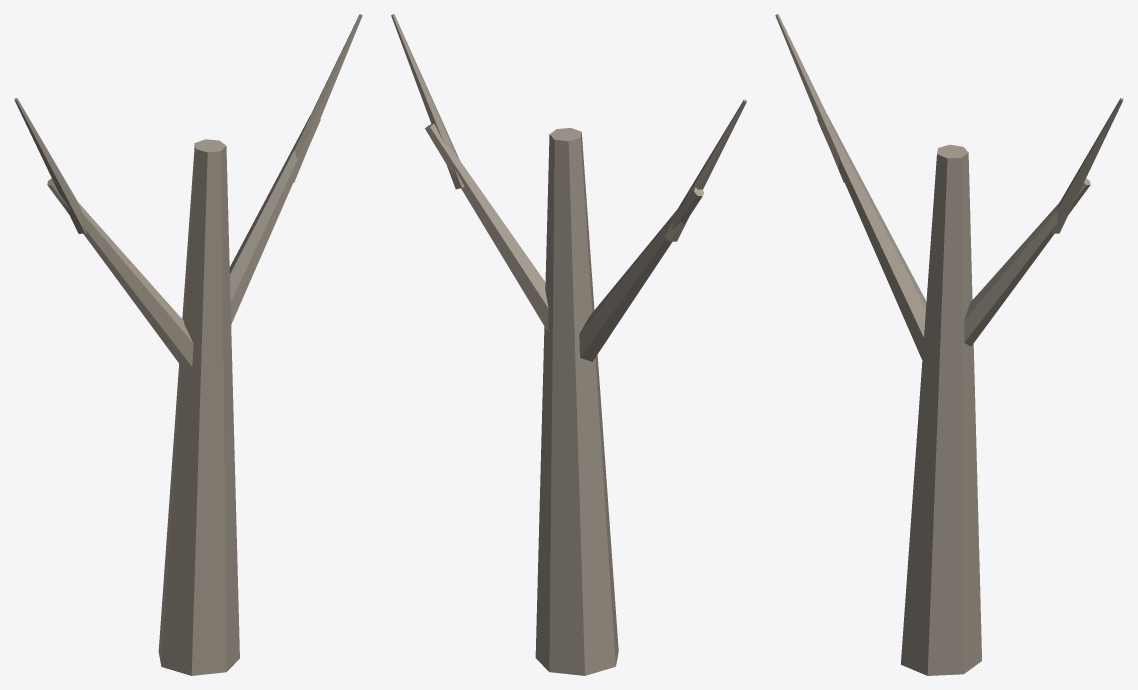
File: SM_ENV_Tree_02_Dead.glb
3 renders of one model, left to right at view 1: azimuth 30°, elevation 25°; view 2: azimuth 150°, elevation 25°; view 3: azimuth 330°, elevation 25°, orthographic. The views are drawn at different scales.
Parts seen in each view (by area): view 1: SM_ENV_Tree_02_Dead; view 2: SM_ENV_Tree_02_Dead; view 3: SM_ENV_Tree_02_Dead.
Boxes of the visible parts, x1=… form: SM_ENV_Tree_02_Dead: x1=14, y1=14, x2=362, y2=675; SM_ENV_Tree_02_Dead: x1=391, y1=14, x2=746, y2=675; SM_ENV_Tree_02_Dead: x1=775, y1=14, x2=1123, y2=675.
Size of the model in its own units: 1.71 by 2.81 by 0.351.
